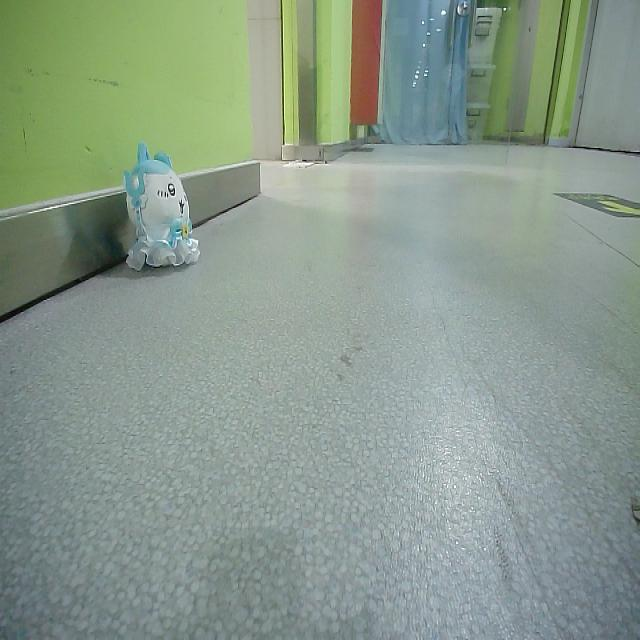xiaoba: (116, 140, 206, 270)
